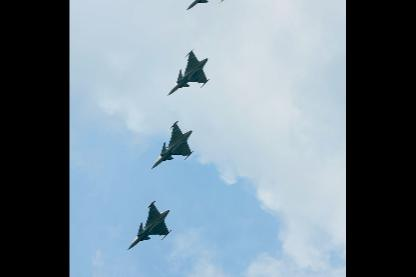JAS39: (128, 199, 172, 248), (150, 120, 193, 168), (168, 47, 210, 94), (185, 0, 228, 10)
